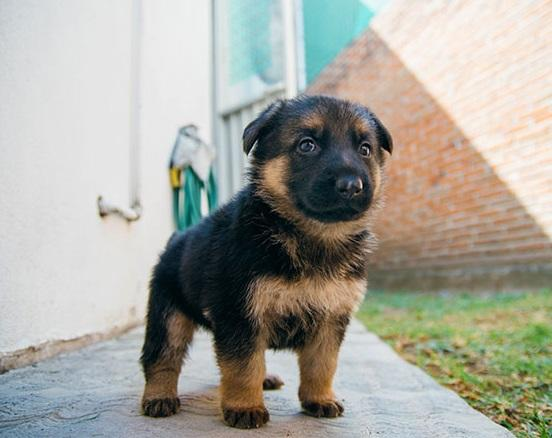dog: (134, 97, 393, 430)
